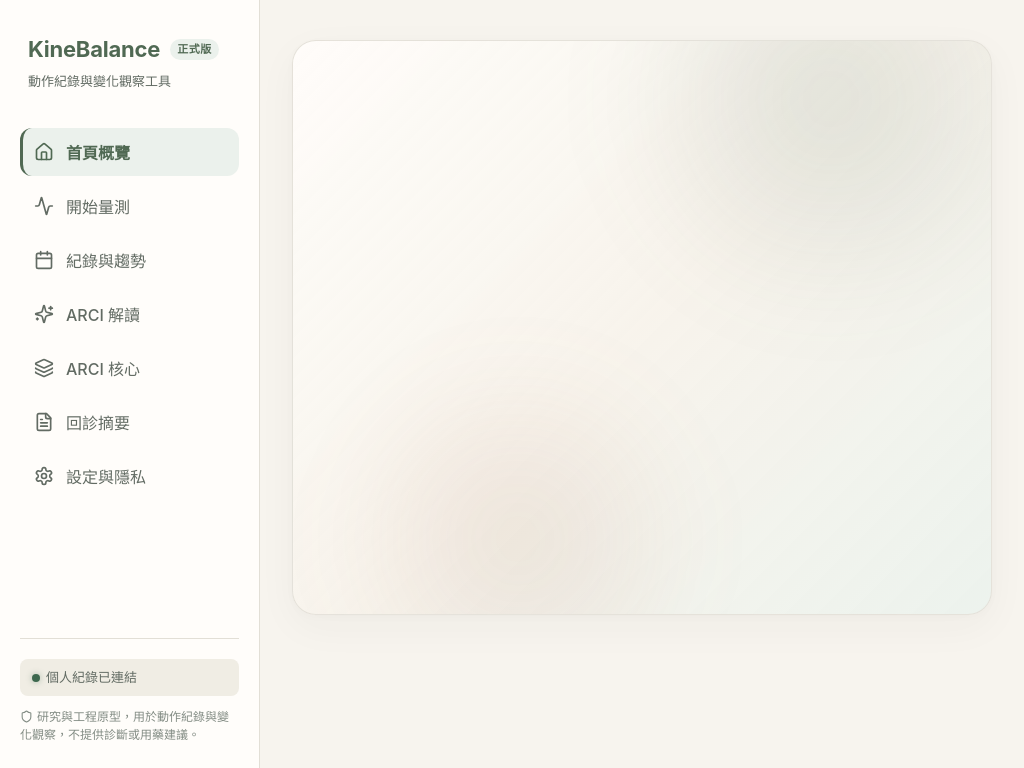
Test: KineBalanceApp Formal UI › navigates to insights and displays ARCI 5-section interpretation
The image size is (1024, 768).
Click the button "ARCI 解讀" at point(130, 314), box x1=20 y1=290 x2=239 y2=338
(page scrolled)
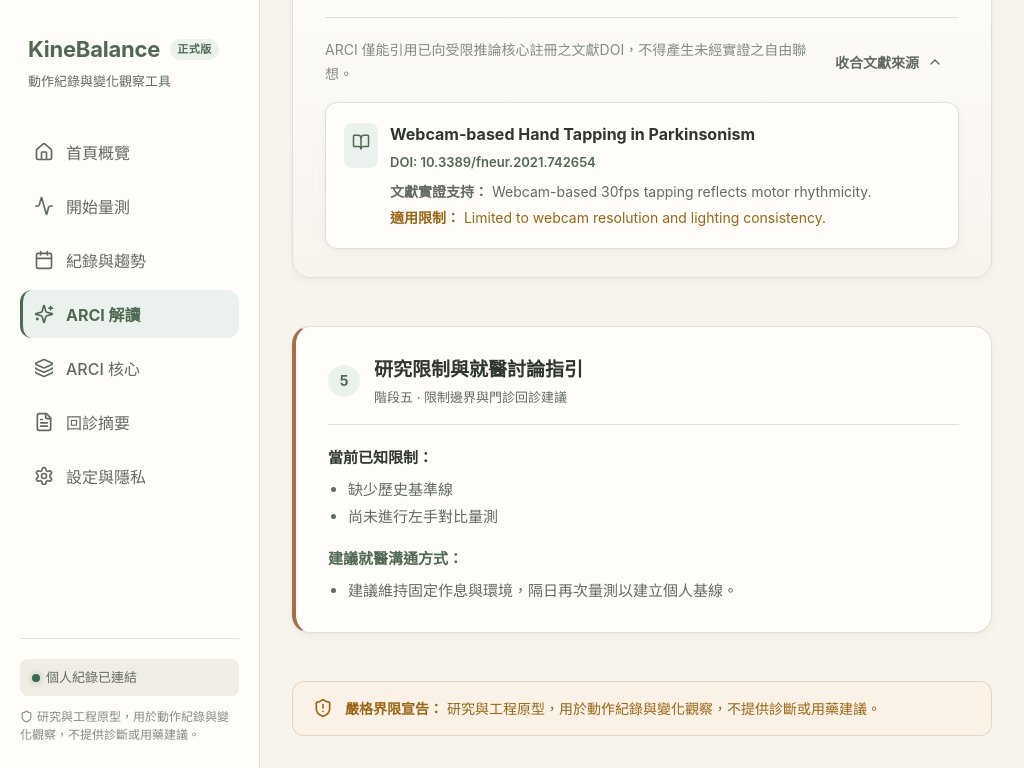
Expected: the heading "研究限制與就醫討論指引" is shown, x1=374 y1=355 x2=583 y2=385
